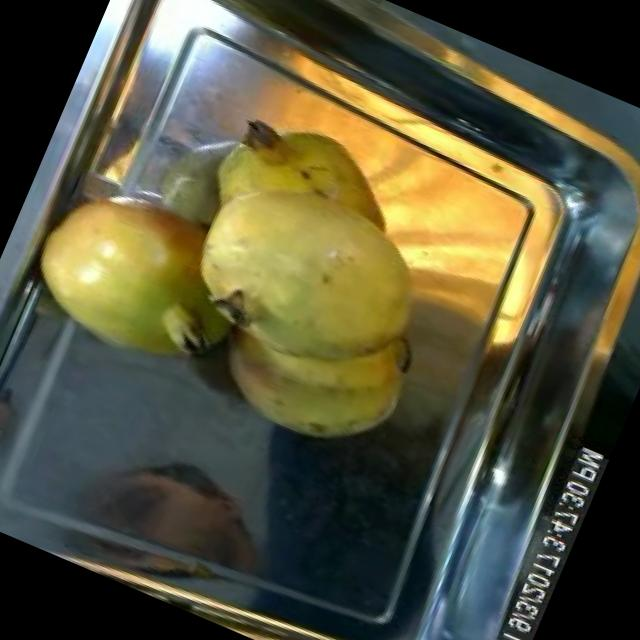fruit: (128, 76, 465, 414)
